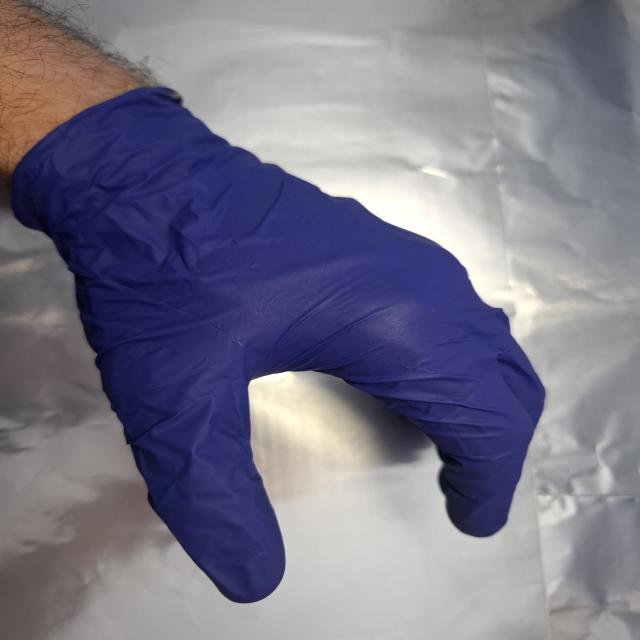glove_on: (23, 88, 553, 608)
